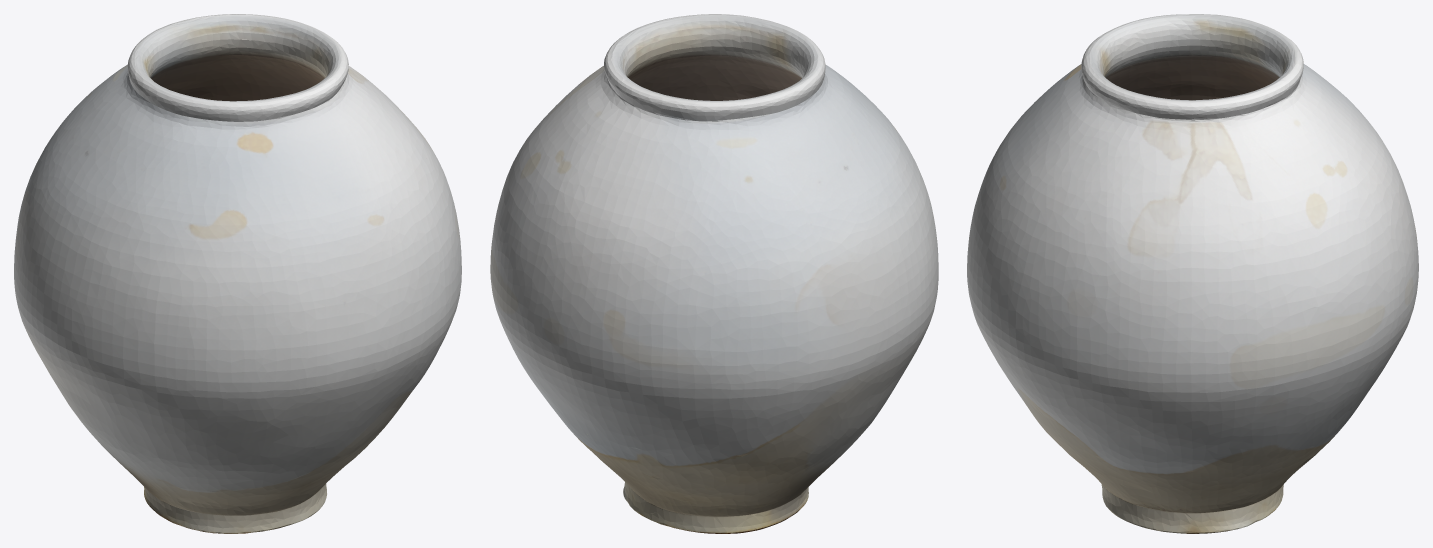
File: joseon_moon_jar.glb
3 views of the same model, side by side, from view 1: azimuth 30°, elevation 25°; view 2: azimuth 150°, elevation 25°; view 3: azimuth 270°, elevation 25° (orthographic).
Visible parts, largest first — view 1: world; view 2: world; view 3: world.
Part boxes in pixels (x1,y1,x2,y2): world: (14,14,461,533); world: (490,14,938,533); world: (967,14,1418,533).
Bounding box in the file's own units: 0.6514 × 0.6997 × 0.6502.
Materials: 1 (1 with a texture image).
